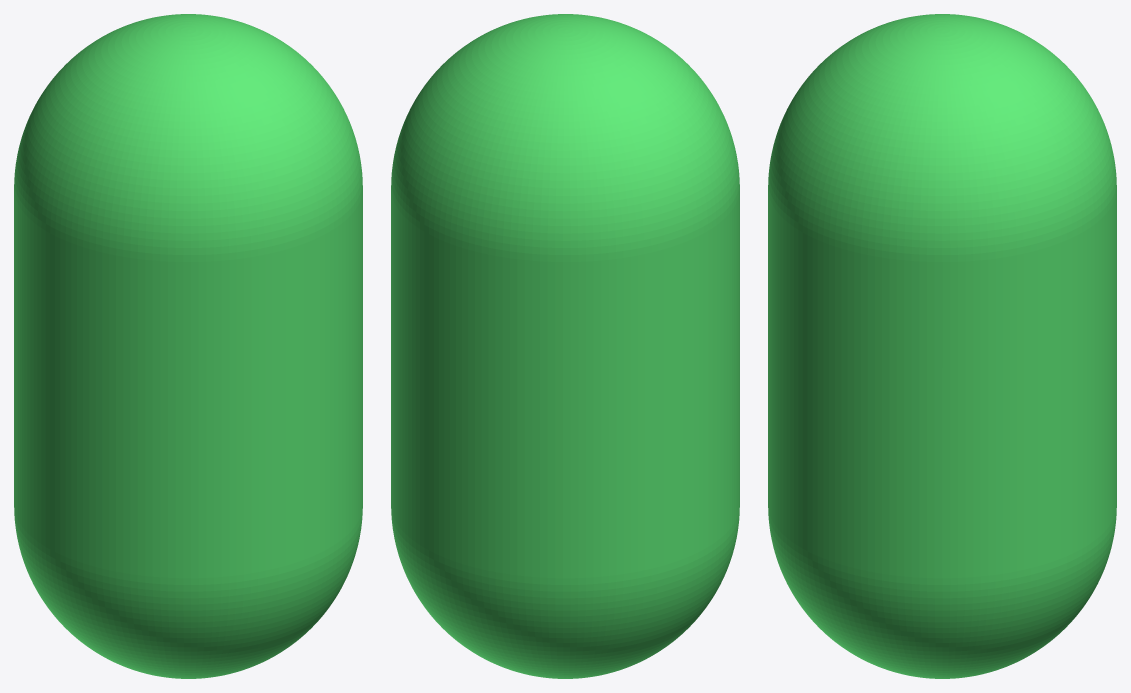
The picture shows the model from 3 angles, left to right: view 1: azimuth 30°, elevation 25°; view 2: azimuth 150°, elevation 25°; view 3: azimuth 270°, elevation 25°; orthographic projection.
Parts seen in each view (by area): view 1: Capsule; view 2: Capsule; view 3: Capsule.
Boxes of the visible parts, left/top/right/bottom form: Capsule: left=14, top=14, right=362, bottom=678; Capsule: left=391, top=14, right=739, bottom=678; Capsule: left=768, top=14, right=1116, bottom=678.
Bounding box in the file's own units: 0.0075 × 0.0075 × 0.015.
